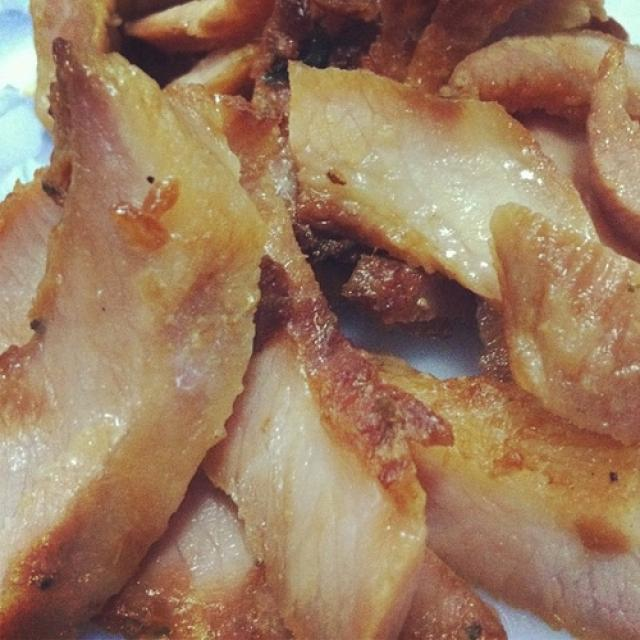猪肉菜式: (19, 21, 635, 618)
